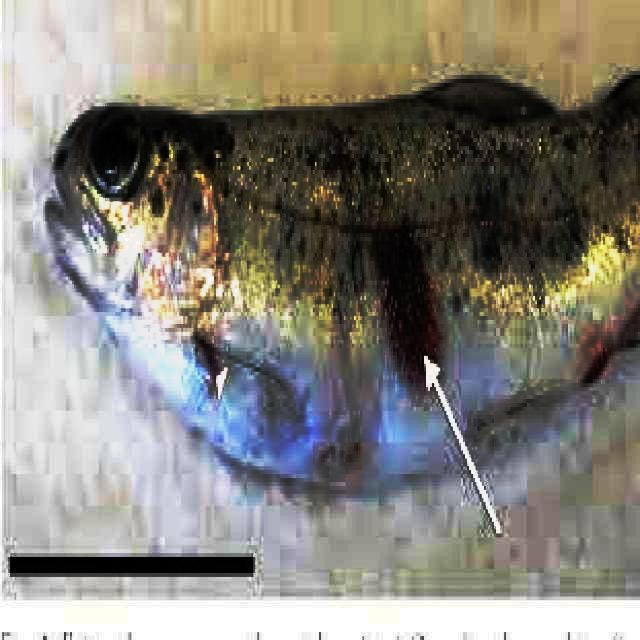Epizootic Ulcerative Syndrome -EUS-: (47, 74, 639, 528), (46, 73, 639, 497)
